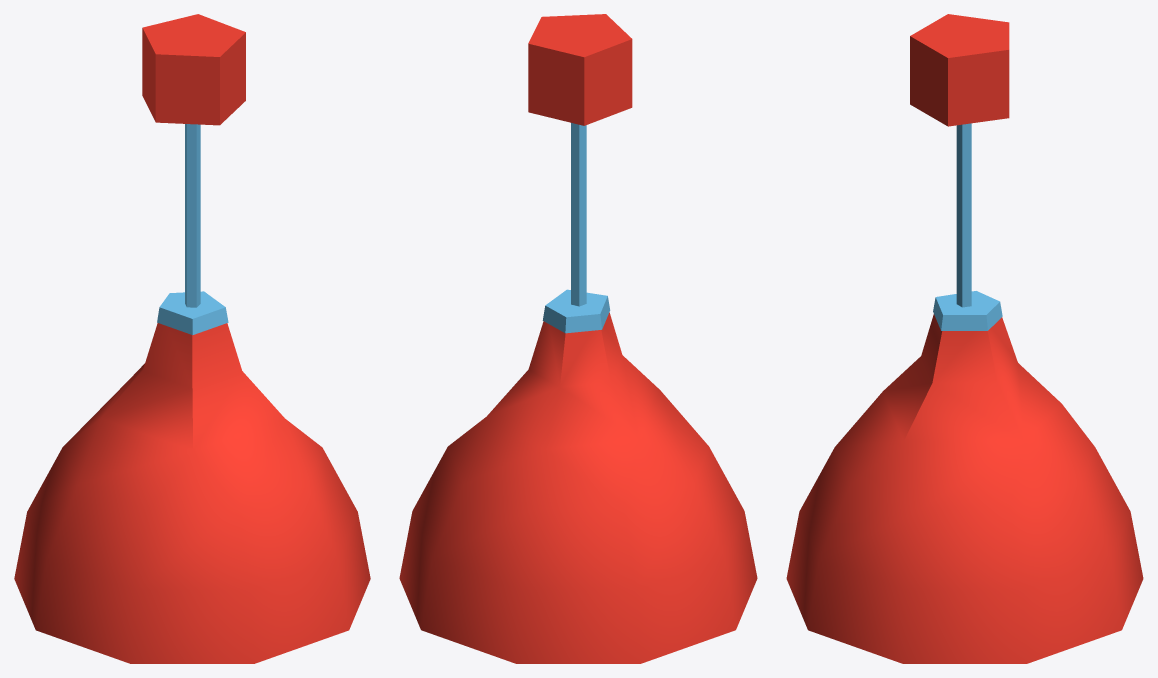
File: lamp_008.glb
3 views of the same model, side by side, from view 1: azimuth 30°, elevation 25°; view 2: azimuth 150°, elevation 25°; view 3: azimuth 270°, elevation 25° (orthographic).
Visible parts, largest first — view 1: lamp_008; view 2: lamp_008; view 3: lamp_008.
Boxes of the visible parts, <box> form: lamp_008: <box>14,14,370,663</box>; lamp_008: <box>399,14,757,663</box>; lamp_008: <box>786,14,1143,663</box>.
Bounding box in the file's own units: 0.5197 × 0.9067 × 0.5277.
1 material, 1 textured.
